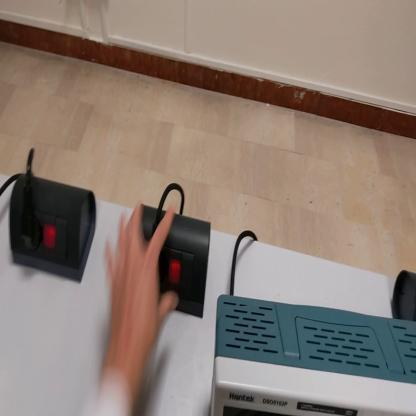hand: (102, 201, 178, 362)
oscilloscope: (210, 296, 416, 415)
socket: (7, 172, 97, 287), (140, 203, 213, 321)
